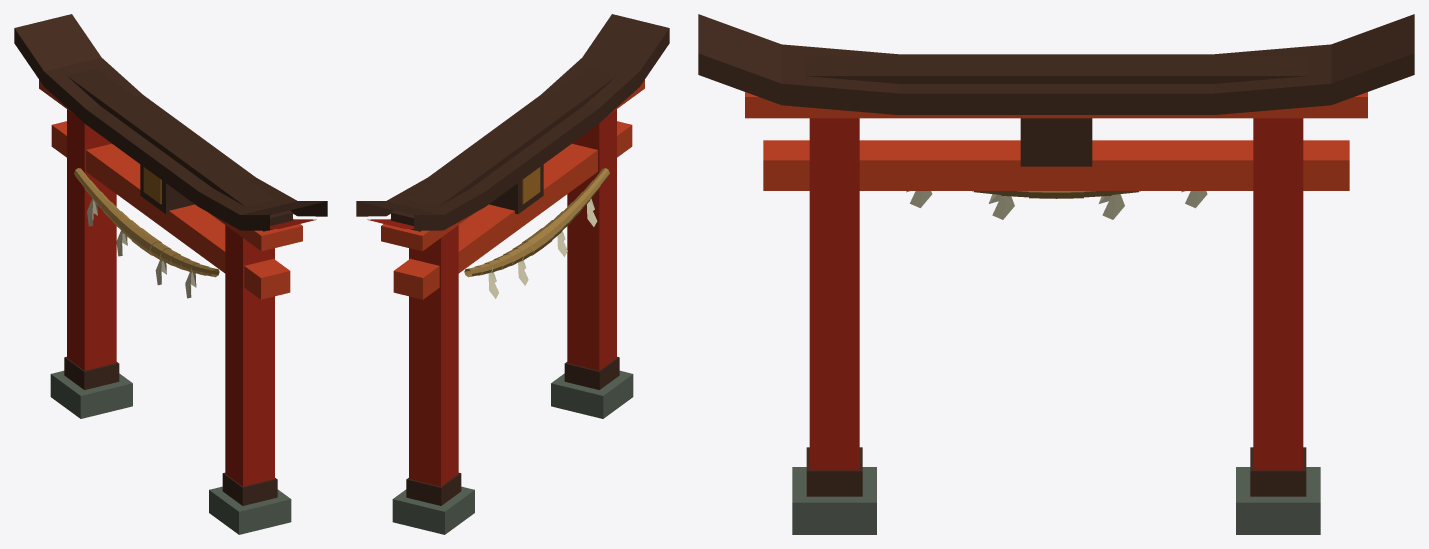
The model's file is shrine-red-torii.obj.
3 views of the same model, side by side, from view 1: azimuth 30°, elevation 25°; view 2: azimuth 150°, elevation 25°; view 3: azimuth 270°, elevation 25° (orthographic). The views are drawn at different scales.
Bounding box in the file's own units: 0.915 × 4.93 × 6.62.
